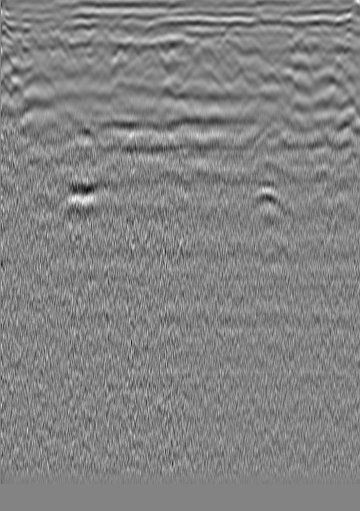가스: (249, 179, 286, 214)
상수: (9, 30, 29, 50)
오수: (289, 37, 309, 57)
우수: (152, 47, 172, 67)
